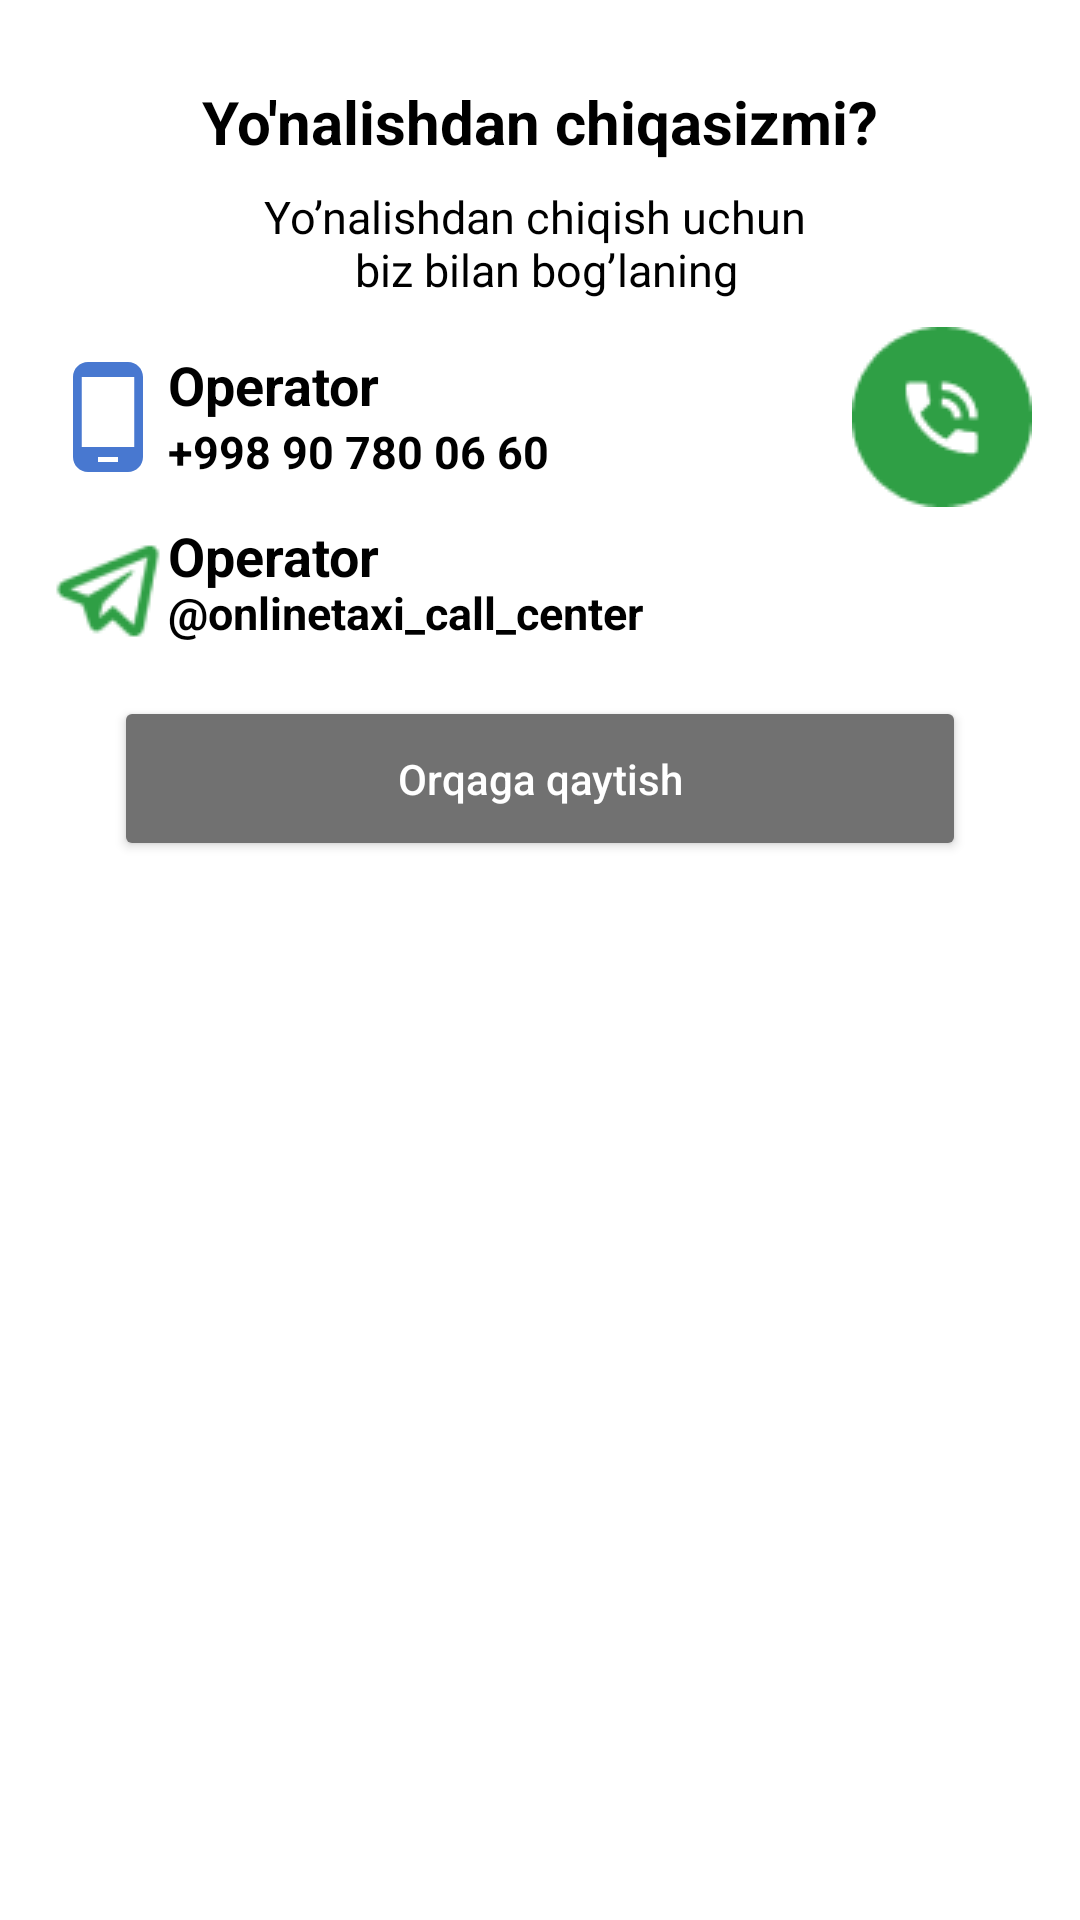

Named icons in this screenshot (1080*1920) and their bounding boxes, rect(x1, y1, x2, y2):
call: rect(852, 327, 1032, 507)
phone: rect(73, 362, 143, 472)
